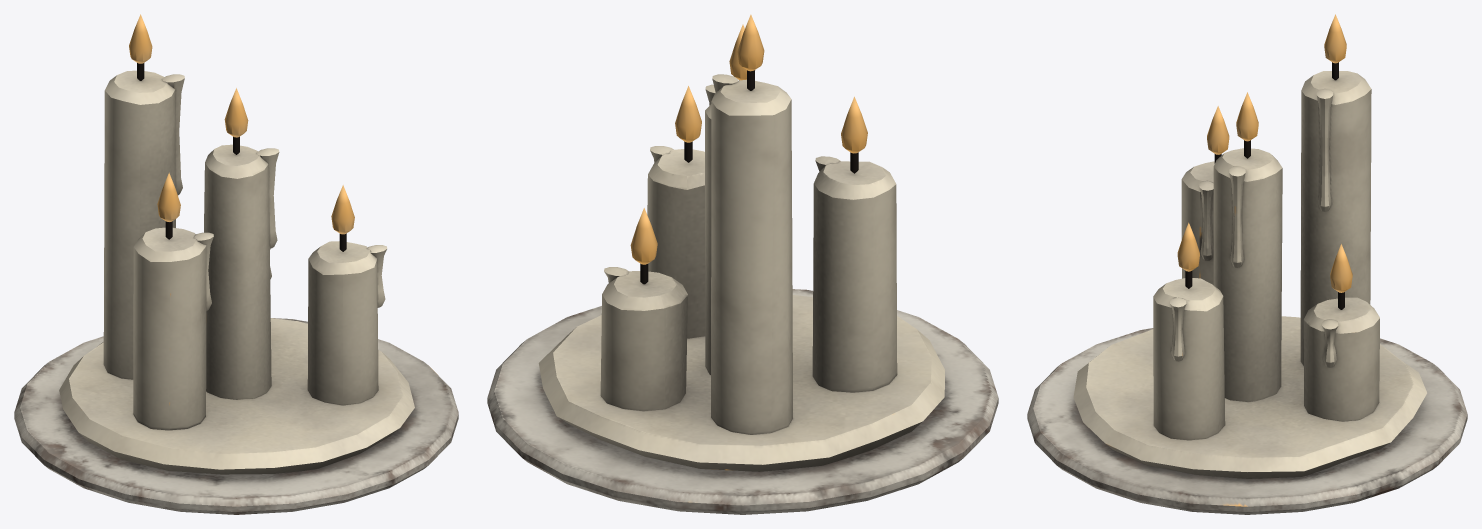
File: candles.fbx
3 renders of one model, left to right at view 1: azimuth 30°, elevation 25°; view 2: azimuth 150°, elevation 25°; view 3: azimuth 270°, elevation 25°, orthographic. The views are drawn at different scales.
Visible parts, largest first — view 1: Body, Glow; view 2: Body, Glow; view 3: Body, Glow.
Boxes of the visible parts, bbox=[...] form: Body: bbox=[14, 63, 458, 514]; Glow: bbox=[129, 14, 354, 234]; Body: bbox=[487, 70, 998, 514]; Glow: bbox=[630, 14, 867, 264]; Body: bbox=[1027, 62, 1467, 514]; Glow: bbox=[1177, 14, 1352, 292].
Bounding box in the file's own units: 1.5 × 1.45 × 1.5.
1 material, 1 textured.
